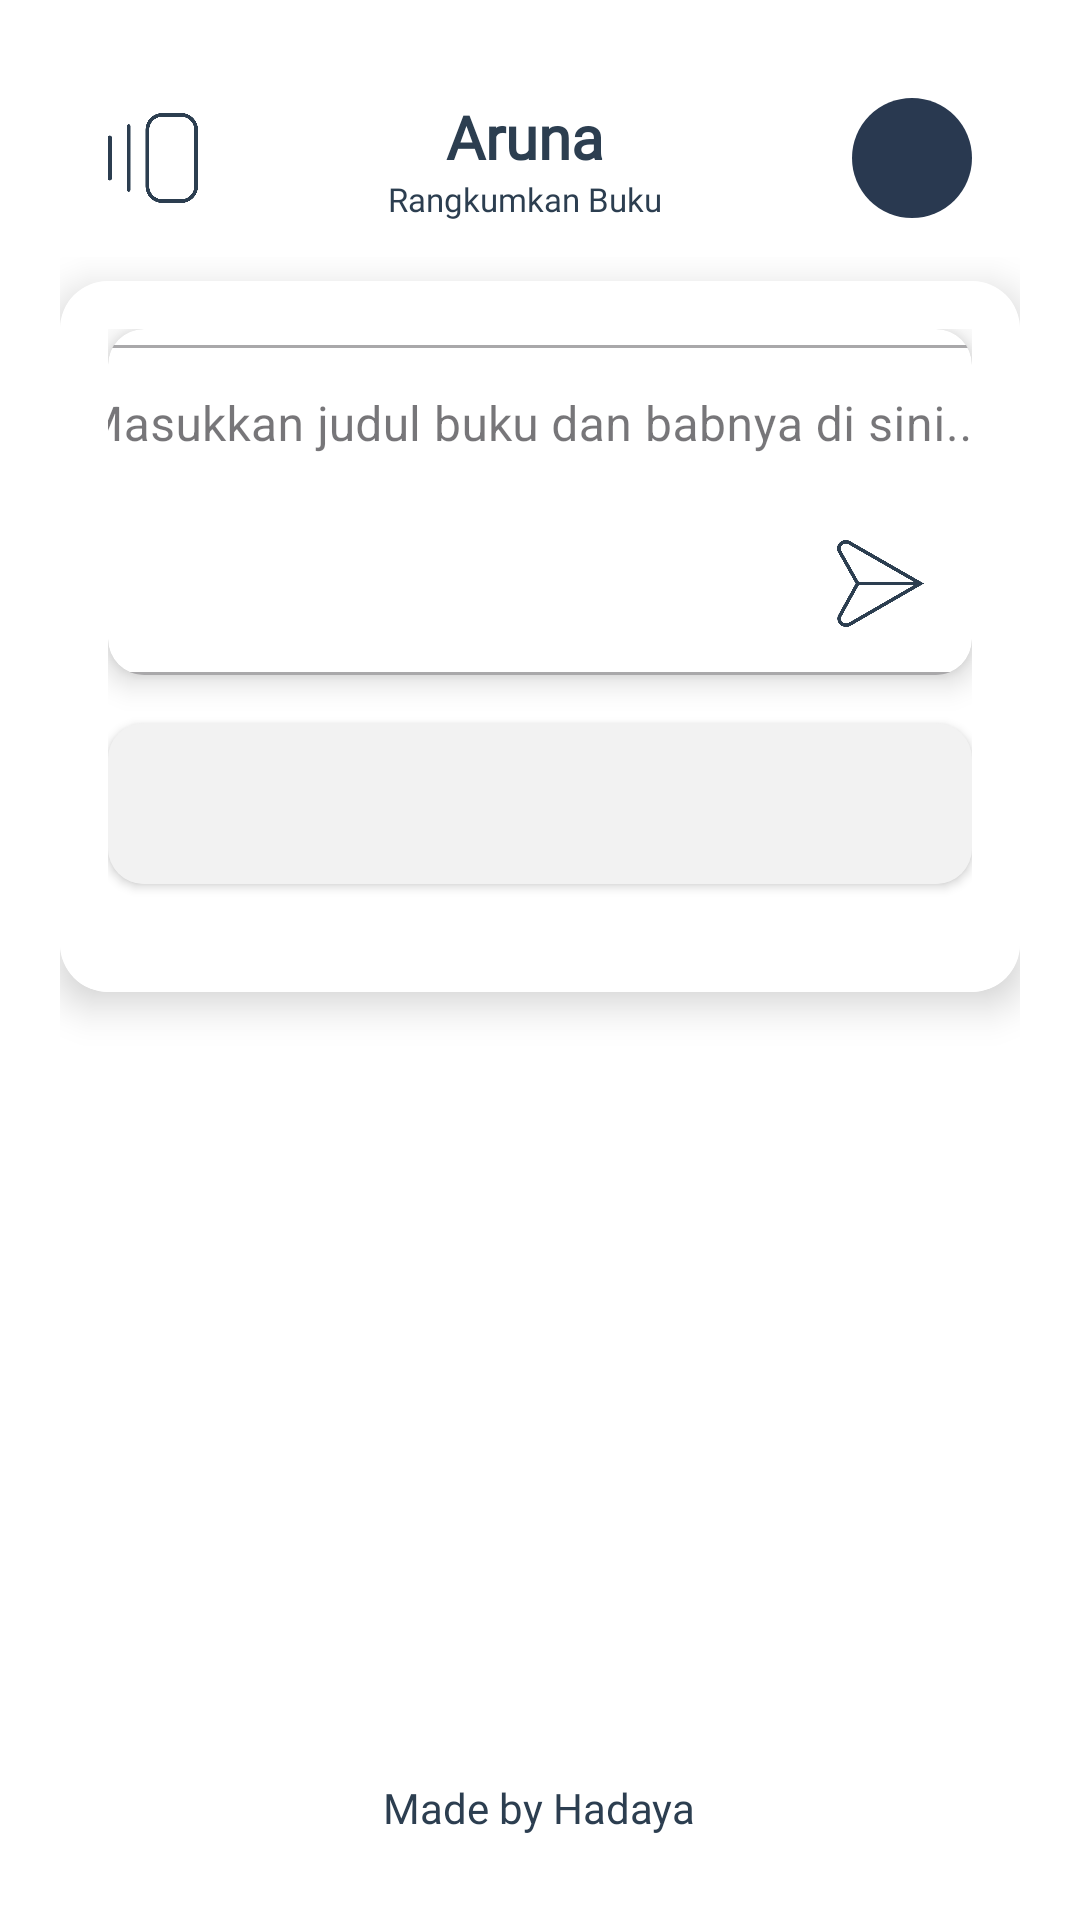

Where icons sit on this 1080px×1920px app screen, as (x1, y1, x2, y2):
send: (837, 540, 924, 627)
